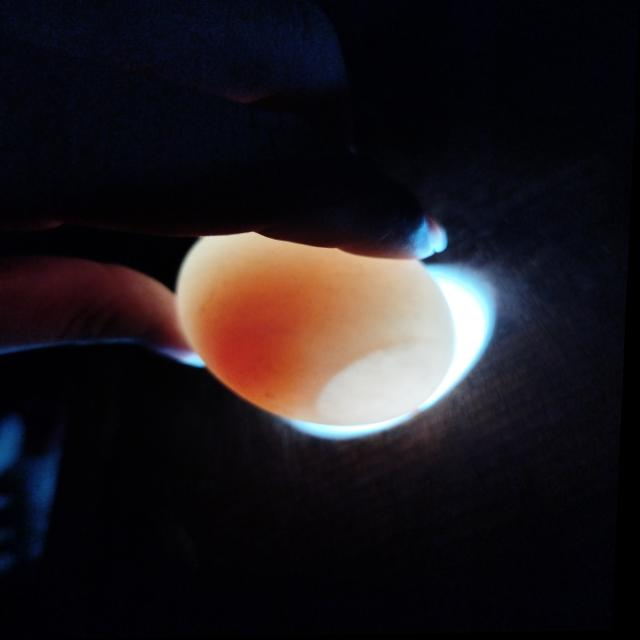Camara de Ar: (319, 344, 457, 427)
